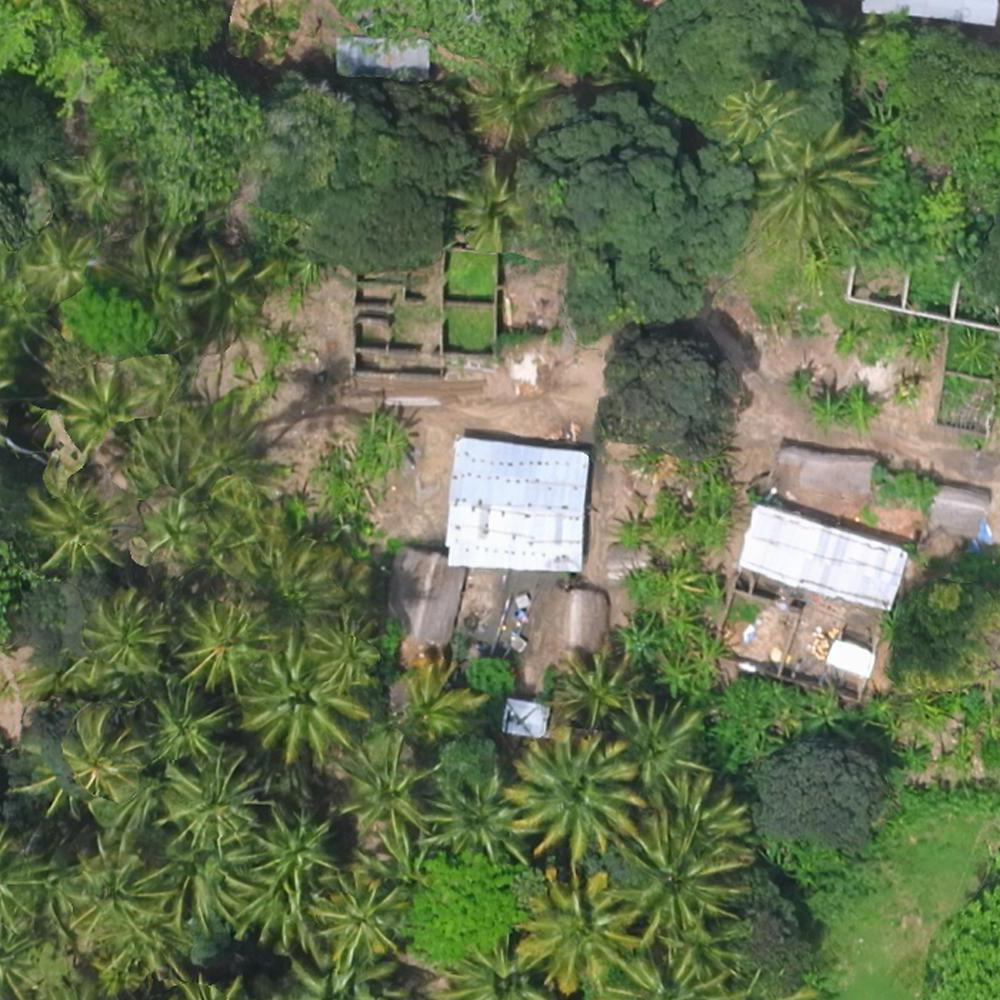Palm: (513, 730, 635, 850), (621, 812, 741, 929), (231, 648, 353, 761), (525, 875, 630, 984), (765, 132, 872, 236), (66, 847, 167, 945), (338, 740, 428, 841), (609, 699, 703, 795), (310, 865, 400, 958), (425, 772, 522, 856), (162, 760, 258, 844), (174, 602, 265, 690), (53, 714, 145, 799), (450, 160, 536, 245), (34, 482, 117, 569), (468, 63, 551, 144), (144, 683, 226, 763), (81, 591, 167, 667), (554, 647, 635, 726), (252, 807, 333, 881), (720, 80, 804, 150)
